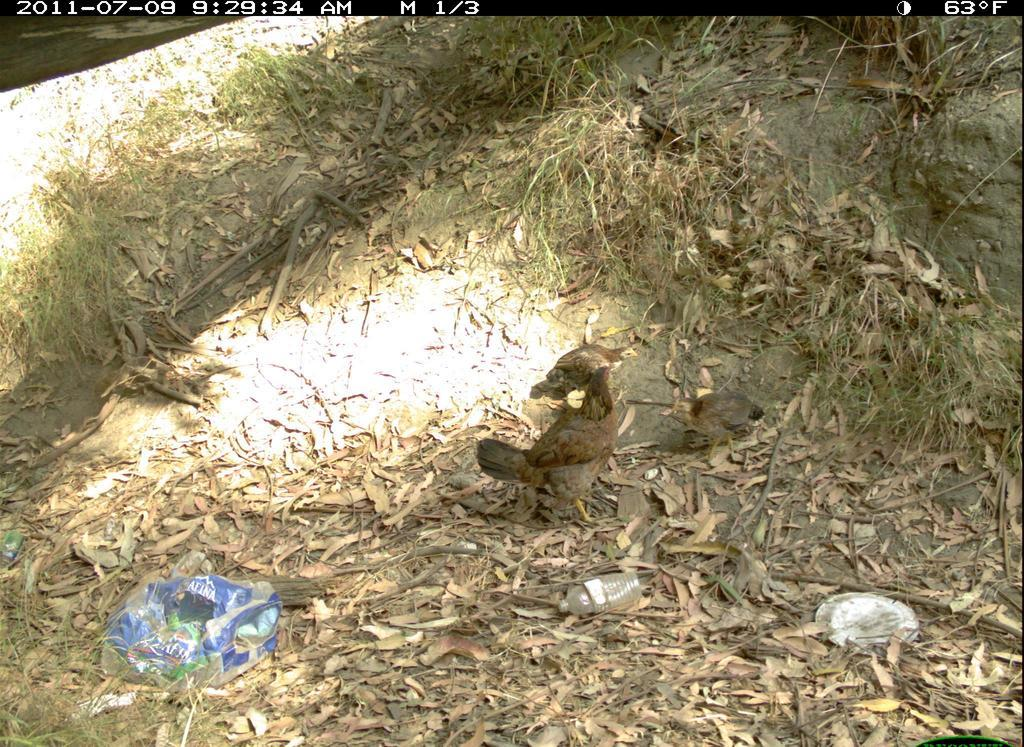bird: (478, 365, 624, 525), (660, 384, 767, 473), (538, 335, 639, 397)
